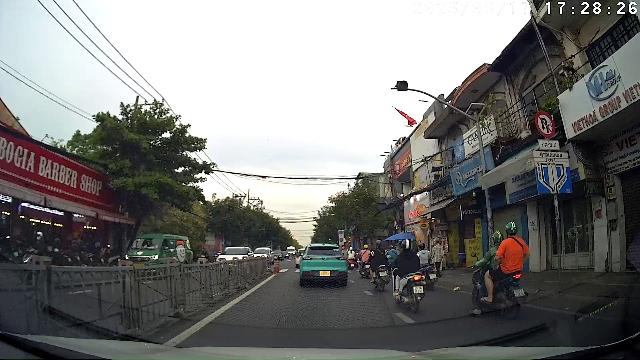124b-cam-oto-quay-dau-xe: (535, 111, 556, 138)
